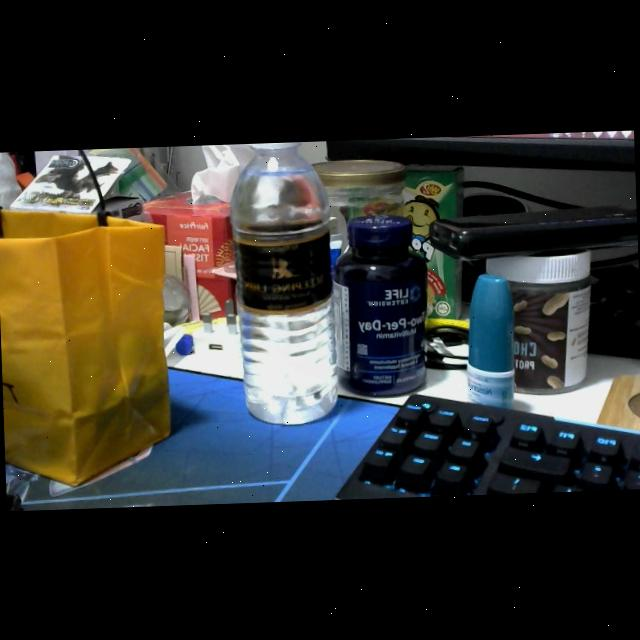trash: (228, 140, 340, 426)
